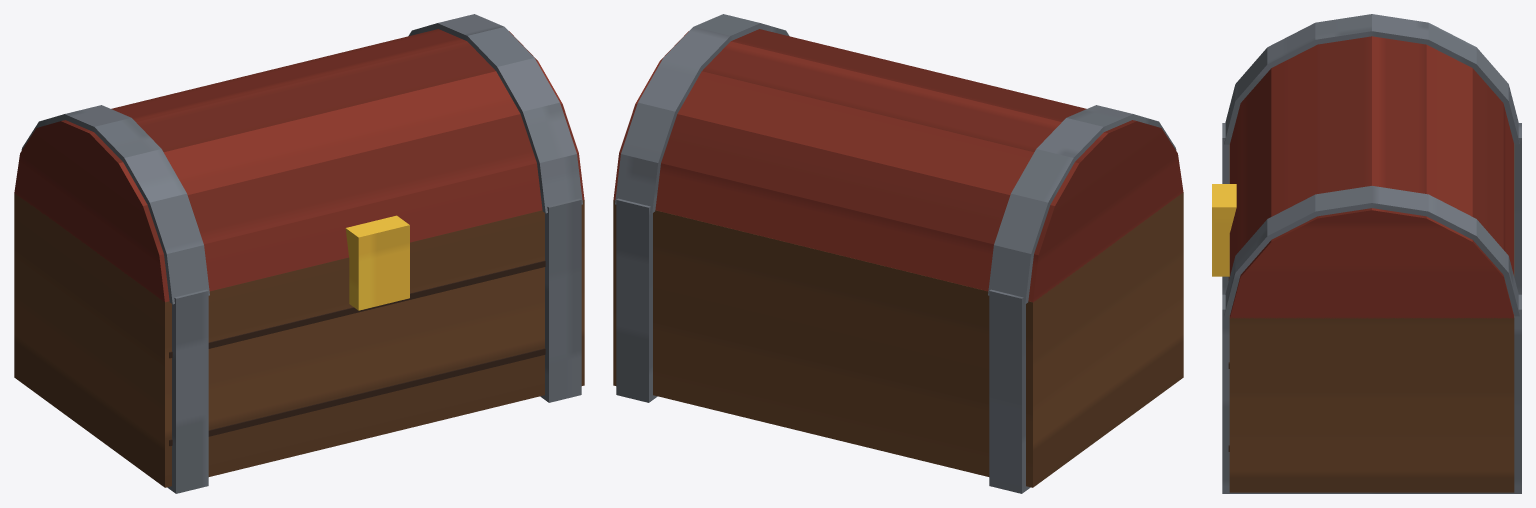
The model's file is SM_Prop_TreasureChest_HQ.glb.
3 renders of one model, left to right at view 1: azimuth 30°, elevation 25°; view 2: azimuth 150°, elevation 25°; view 3: azimuth 270°, elevation 25°, orthographic. The views are drawn at different scales.
Parts seen in each view (by area): view 1: SM_Prop_TreasureChest_HQ; view 2: SM_Prop_TreasureChest_HQ; view 3: SM_Prop_TreasureChest_HQ.
Boxes of the visible parts, left/top/right/bottom form: SM_Prop_TreasureChest_HQ: left=14, top=14, right=584, bottom=493; SM_Prop_TreasureChest_HQ: left=613, top=14, right=1183, bottom=493; SM_Prop_TreasureChest_HQ: left=1212, top=14, right=1521, bottom=493.
Size of the model in its own units: 0.9 by 0.6344 by 0.61.
Materials: 1 (1 with a texture image).
